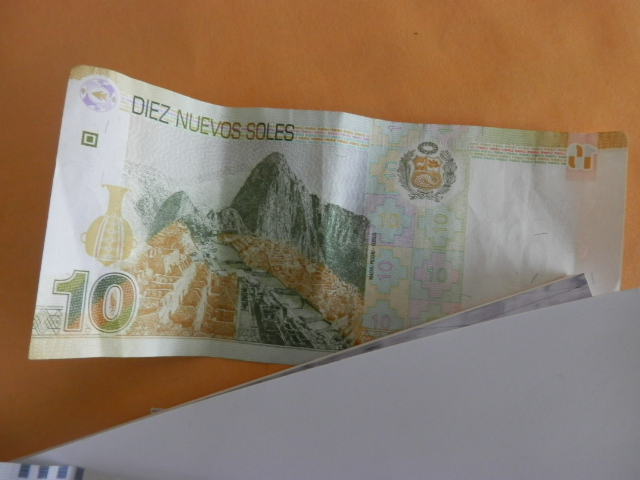B10: (46, 65, 626, 380)
